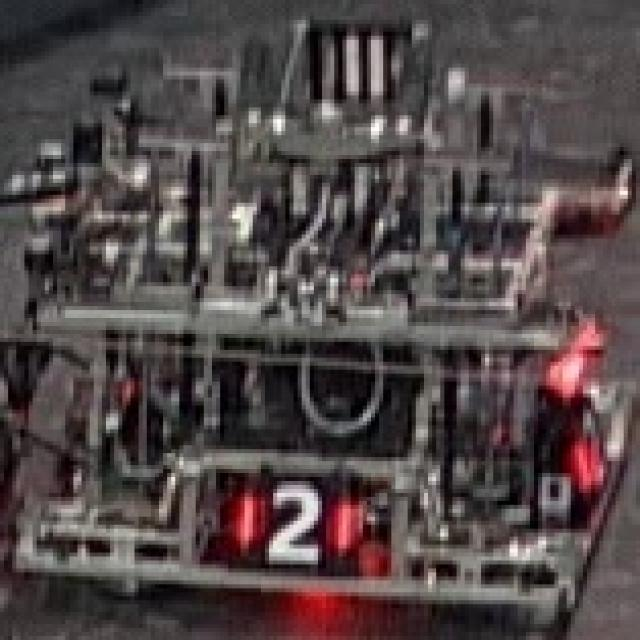R2: (236, 477, 354, 561)
